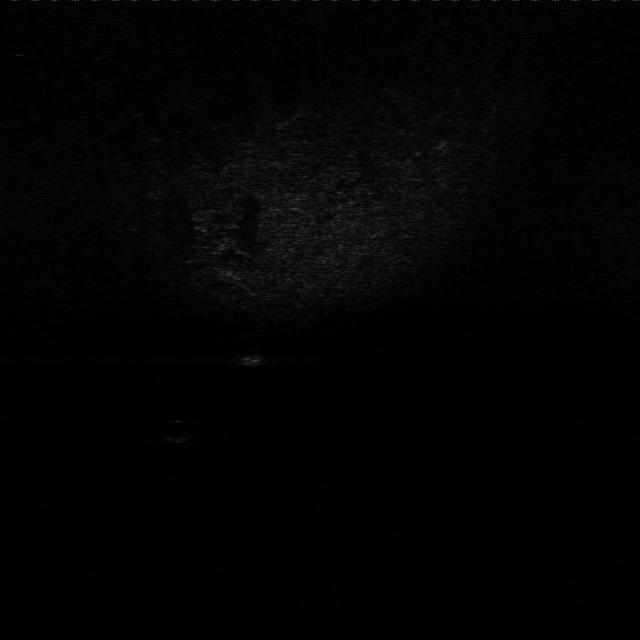ball: (162, 414, 194, 444)
cube: (234, 346, 267, 370)
